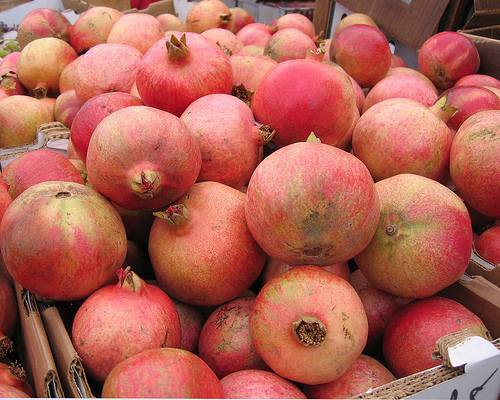pomogranate: (243, 130, 382, 267)
